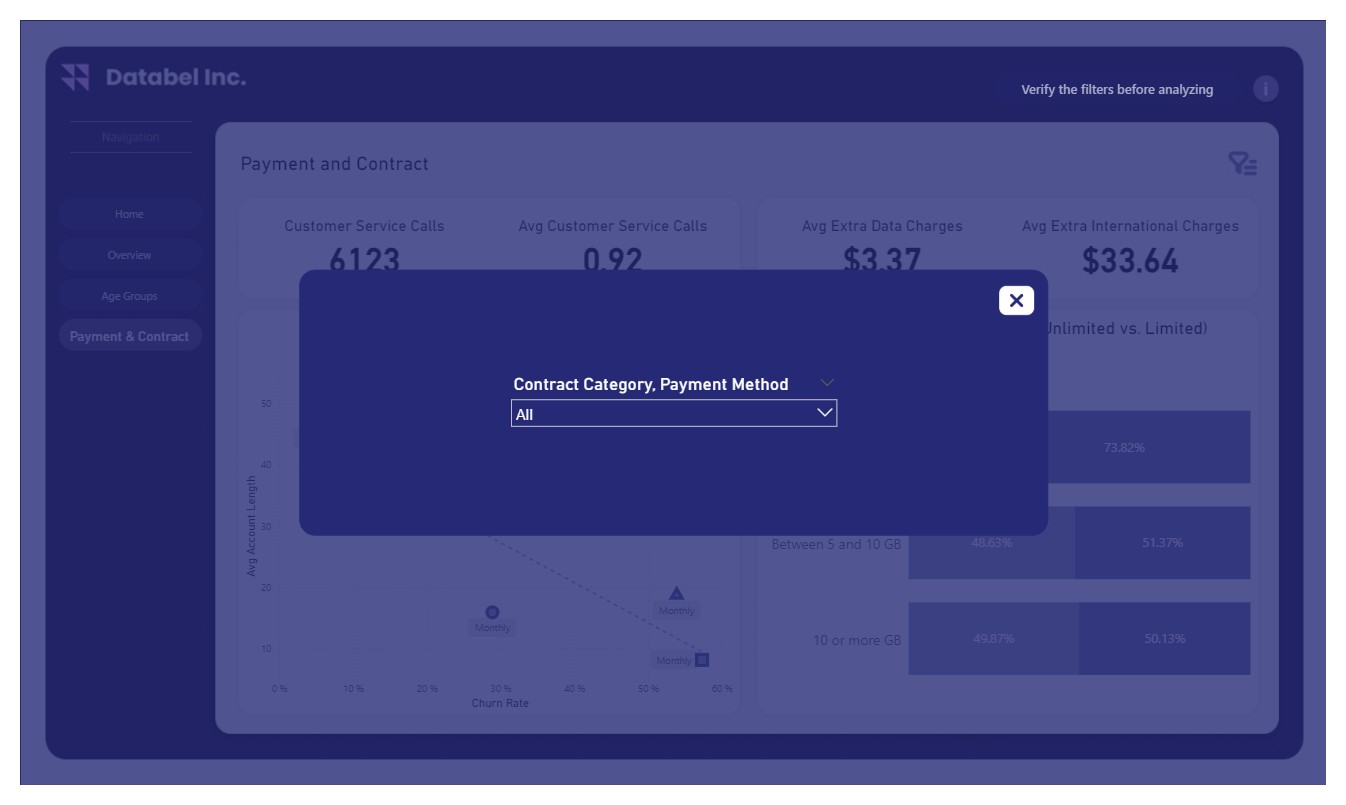

Layout of this report page (visuals, bound fields, positions):
{"tool":"powerbi","page":{"name":"Payment & Contract","canvas":[1640,960],"ordinal":3},"visuals":[{"type":"scatterChart","title":"Churn Rate by Account Length","fields":{"X":["Databel - Data.Churn Rate"],"Y":["Databel - Data.Average Account Length"],"Category":["Databel - Data.Contract Category"],"Series":["Databel - Data.Payment Method"]},"box":[271.4,363.7,632.3,509.2],"z":0},{"type":"cardVisual","fields":{"Data":["Sum(Databel - Data.Customer Service Calls)","Databel - Data.Avg Customer Service Calls"]},"box":[271.4,222.4,632.2,127.3],"z":1000},{"type":"pageNavigator","box":[49,222.4,177.6,197.2],"z":2000},{"type":"cardVisual","fields":{"Data":["Databel - Data.Avg Extra Data Charges","Databel - Data.Avg Extra International Charges"]},"box":[920.4,222.4,632.2,127.3],"z":3000},{"type":"hundredPercentStackedBarChart","title":"Churn Rate by Data Plan Type (Unlimited vs. Limited)","fields":{"Category":["Databel - Data.Grouped Consumption"],"Y":["Databel - Data.Churn Rate"],"Series":["Databel - Data.Unlimited Data Plan"]},"box":[920.4,363.7,632.2,509.2],"z":4000},{"type":"textbox","box":[271.4,159.5,465.8,61.5],"z":5000},{"type":"actionButton","box":[1517.7,159.5,35,40.6],"z":6000},{"type":"actionButton","box":[1219.8,65.7,310.5,40.6],"z":8000}]}

Visuals, with their boxes in screenshot pixels (x1, y1, x2, y2), scaled from the page's 1640x960 canvas onto the 1346x805 screenshot:
"Churn Rate by Account Length" scatterChart: Rect(223, 305, 742, 732)
cardVisual - Sum(Databel - Data.Customer Service Calls) x Databel - Data.Avg Customer Service Calls: Rect(223, 186, 742, 293)
pageNavigator: Rect(40, 186, 186, 352)
cardVisual - Databel - Data.Avg Extra Data Charges x Databel - Data.Avg Extra International Charges: Rect(755, 186, 1274, 293)
"Churn Rate by Data Plan Type (Unlimited vs. Limited)" hundredPercentStackedBarChart: Rect(755, 305, 1274, 732)
textbox: Rect(223, 134, 605, 185)
actionButton: Rect(1246, 134, 1274, 168)
actionButton: Rect(1001, 55, 1256, 89)
